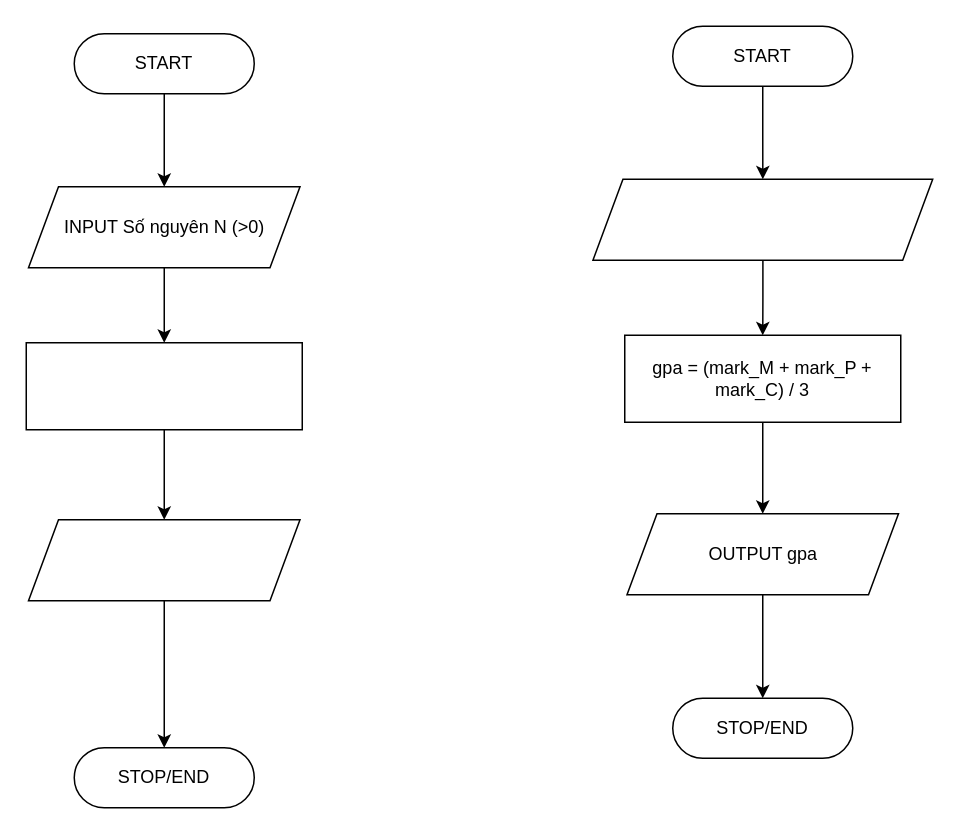
Image size: 960x834. Some labels were removed from this diagram. Here are the shapes that lost their labels. From the top down, the box of each, then its label:
(591, 178, 933, 260): INPUT mark_M, mark_P, mark_C
(25, 341, 302, 430): Z = N * N
(27, 518, 300, 601): OUTPUT Z
